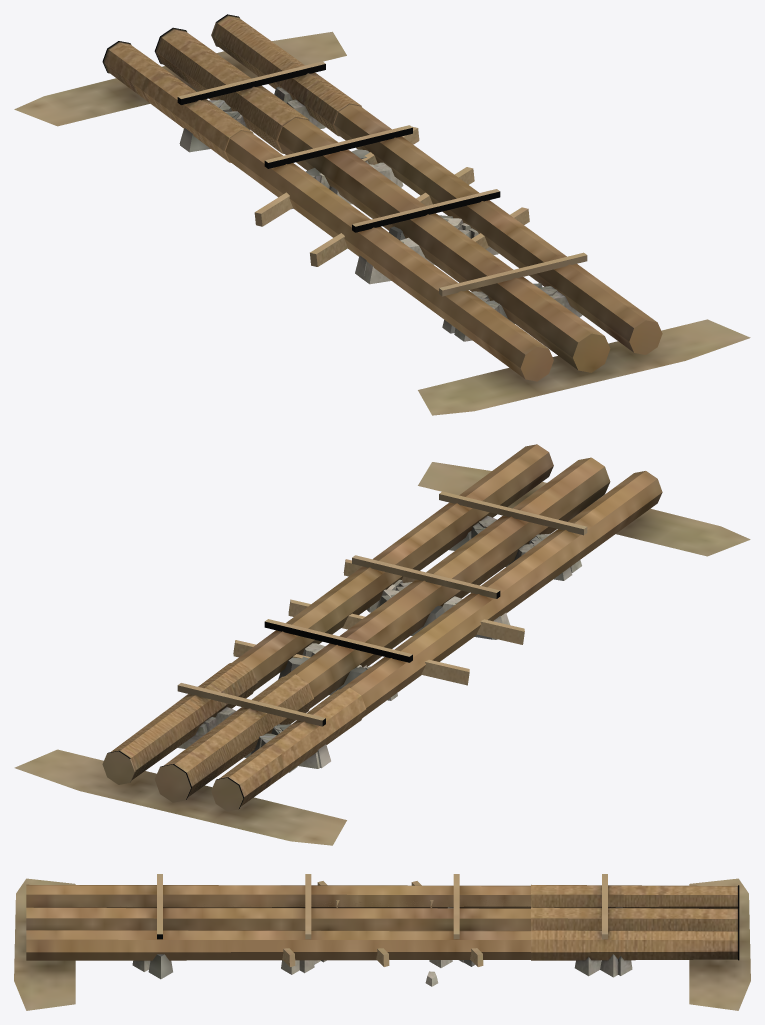
File: bridge-ford.glb
3 views of the same model, one above another, from view 1: azimuth 30°, elevation 25°; view 2: azimuth 150°, elevation 25°; view 3: azimuth 270°, elevation 25° (orthographic). The views are drawn at different scales.
Parts seen in each view (by area): view 1: LOD0 (×3); view 2: LOD0 (×3); view 3: LOD0 (×3).
Boxes of the visible parts, x1=… form: LOD0 (×3): x1=14, y1=14, x2=750, y2=415; LOD0 (×3): x1=14, y1=444, x2=750, y2=845; LOD0 (×3): x1=14, y1=874, x2=750, y2=1010.
Size of what is drawn, in the model's own units: 0.44 by 0.064 by 1.03.
Materials: 2 (2 with a texture image).
